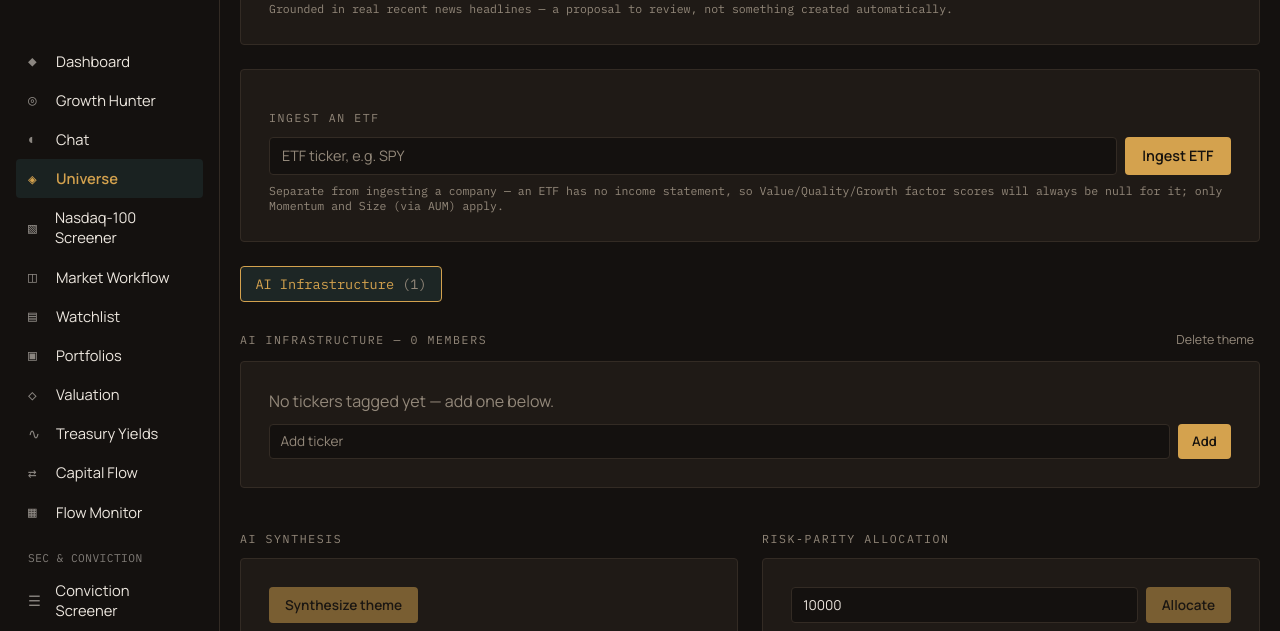
Test: Universe — add ticker to theme › offers an inline ingest option instead of a dead-end error
(page scrolled)
In the field with placeholder "Add ticker": x=719, y=442 269,424 -> 1170,459, type "NEWCO"
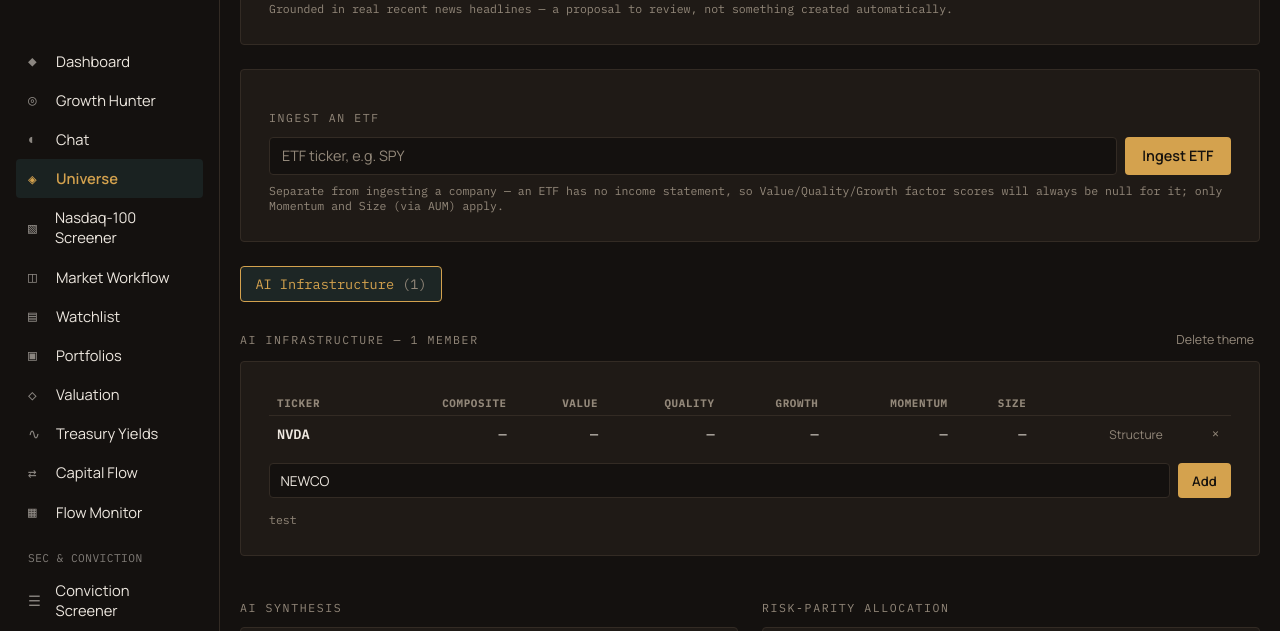
Click the button "Add": x=1204, y=481 1178,463 -> 1231,498
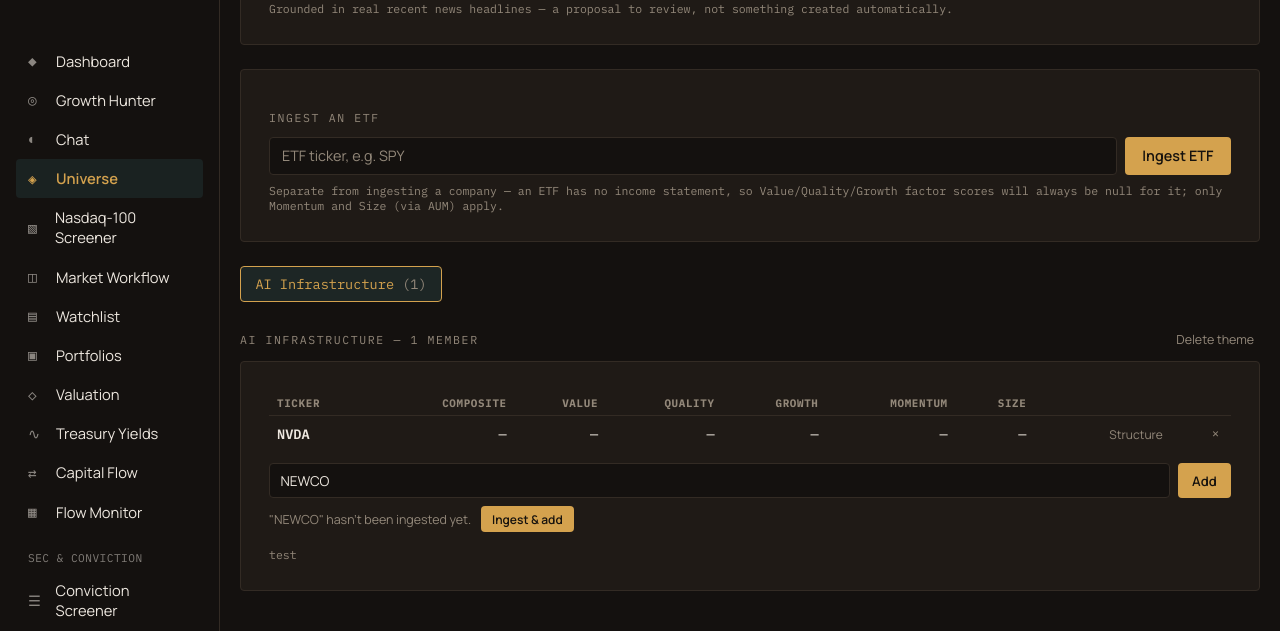
Result: the text "\"NEWCO\" hasn't been ingested yet." is shown at 269,511 -> 471,528
Result: the button "Ingest & add" is shown at 481,506 -> 574,532
